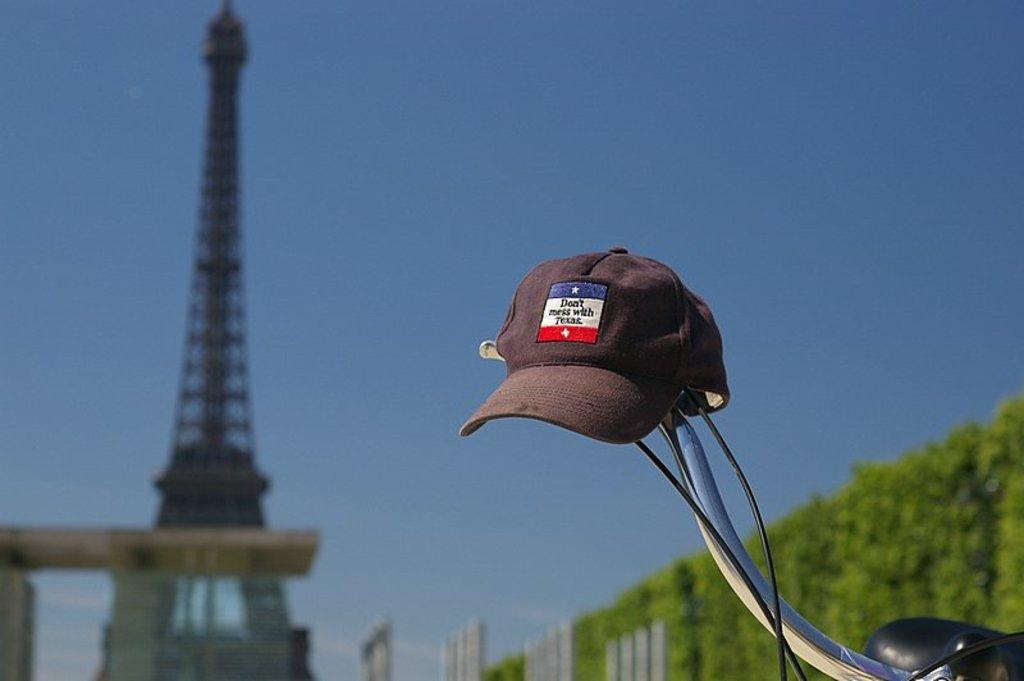Hat: (460, 246, 730, 443)
